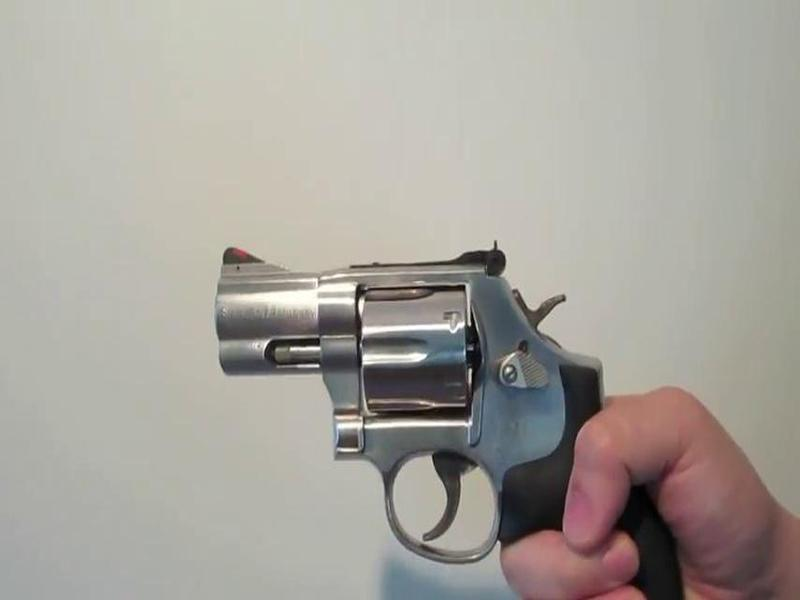Revolver: (214, 202, 686, 585)
